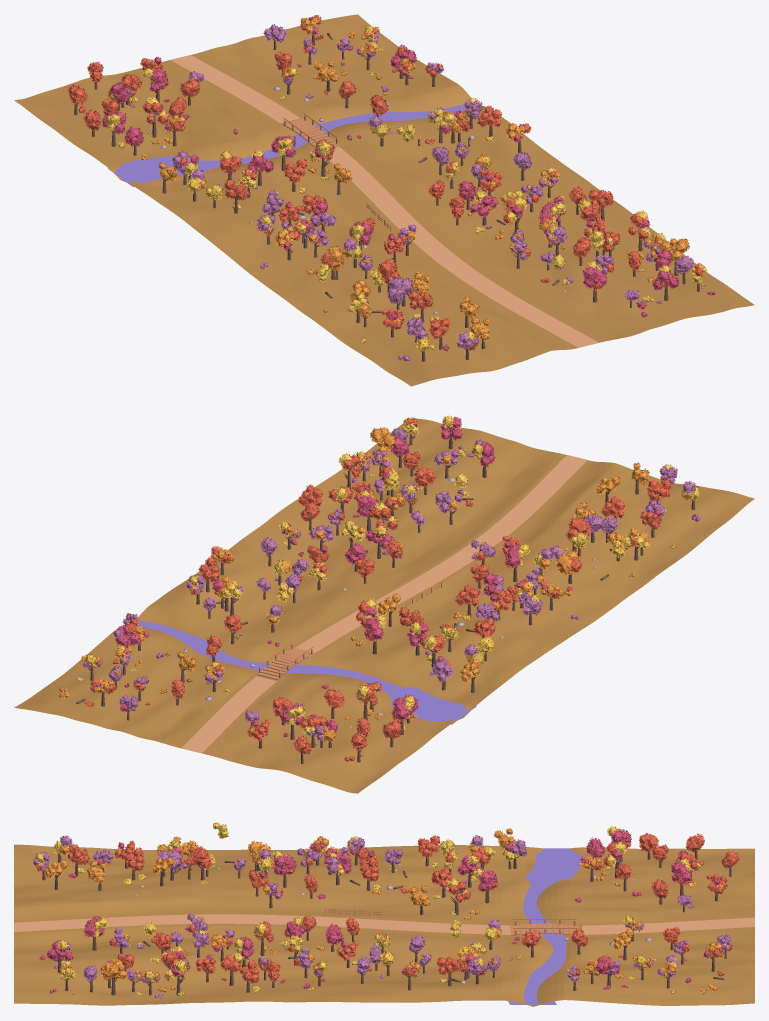
File: autumn-world.glb
3 renders of one model, top to bottom at view 1: azimuth 30°, elevation 25°; view 2: azimuth 150°, elevation 25°; view 3: azimuth 270°, elevation 25°, orthographic. The views are drawn at different scales.
Parts seen in each view (by area): view 1: EX_Terrain, EX_Leaves, EX_Path, EX_Trunks, EX_Water, EX_Bridge; view 2: EX_Terrain, EX_Leaves, EX_Path, EX_Trunks, EX_Water, EX_Bridge; view 3: EX_Terrain, EX_Leaves, EX_Path, EX_Trunks, EX_Water, EX_Bridge.
Boxes of the visible parts, <box> form: EX_Terrain: <box>14,14,754,386</box>; EX_Leaves: <box>67,15,715,361</box>; EX_Path: <box>170,55,598,347</box>; EX_Trunks: <box>74,28,699,361</box>; EX_Water: <box>108,104,466,186</box>; EX_Bridge: <box>282,113,339,148</box>; EX_Terrain: <box>14,417,754,793</box>; EX_Leaves: <box>58,415,700,761</box>; EX_Path: <box>181,455,587,753</box>; EX_Trunks: <box>76,429,695,763</box>; EX_Water: <box>137,620,476,724</box>; EX_Bridge: <box>257,641,314,679</box>; EX_Terrain: <box>14,844,754,1006</box>; EX_Leaves: <box>33,822,739,998</box>; EX_Path: <box>14,914,754,934</box>; EX_Trunks: <box>42,849,733,995</box>; EX_Water: <box>508,848,582,1004</box>; EX_Bridge: <box>510,919,579,935</box>.
Bounding box in the file's own units: 84.01 × 10.74 × 168.
